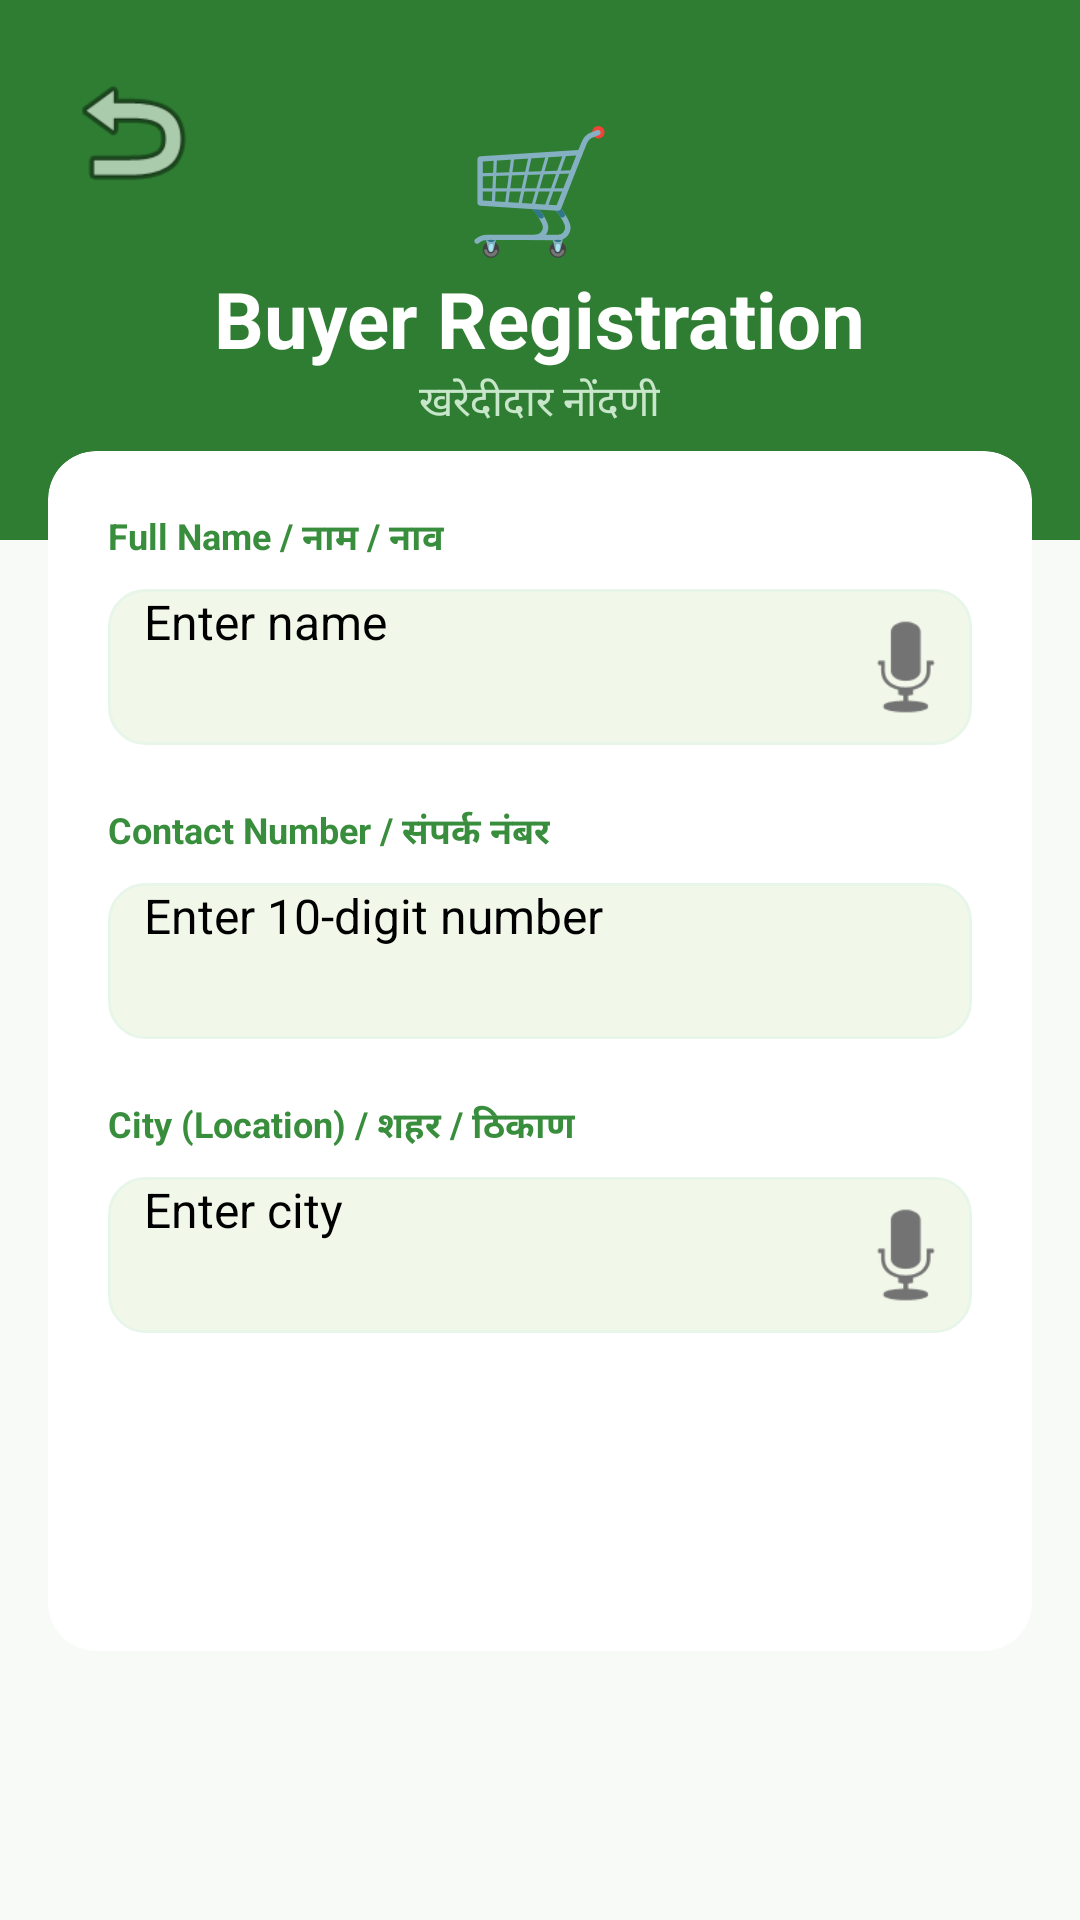

Icons on this 1080×1920 Android screen, each with its box as (x1, y1, x2, y2):
Back: (82, 87, 185, 180)
Voice input: (877, 621, 935, 713), (877, 1209, 935, 1301)
